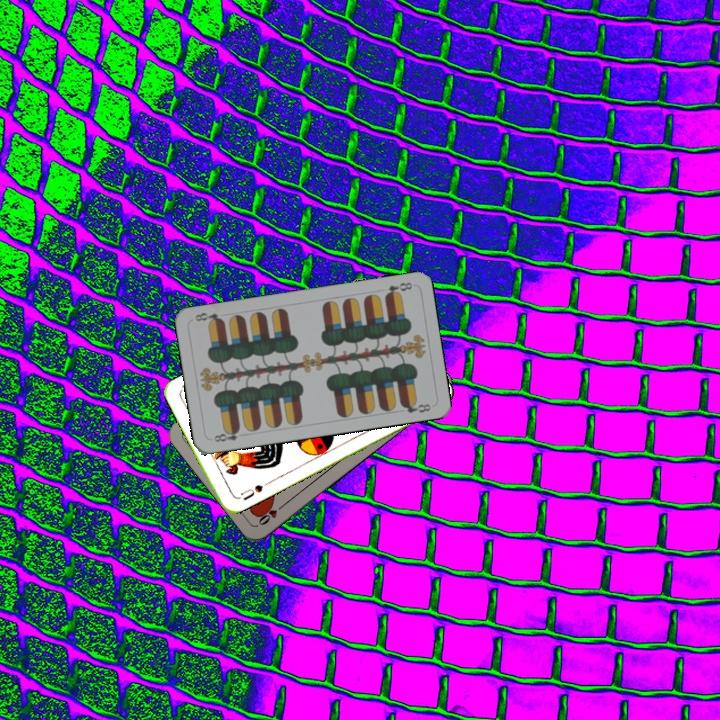E8: (210, 425, 248, 445), (381, 278, 415, 300)
HO: (254, 498, 289, 528)
SU: (236, 479, 271, 503)
